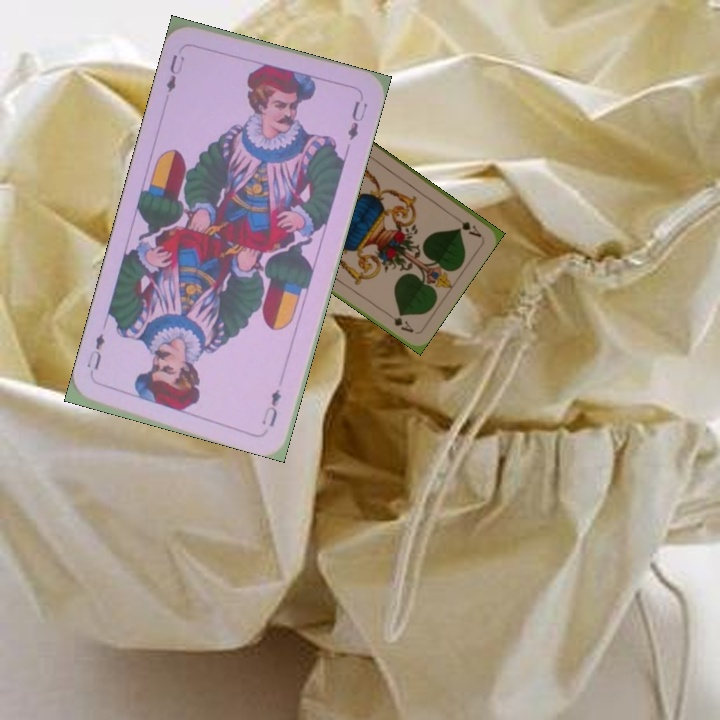EU: (162, 44, 188, 96), (258, 385, 284, 430)
GA: (449, 211, 484, 240)
